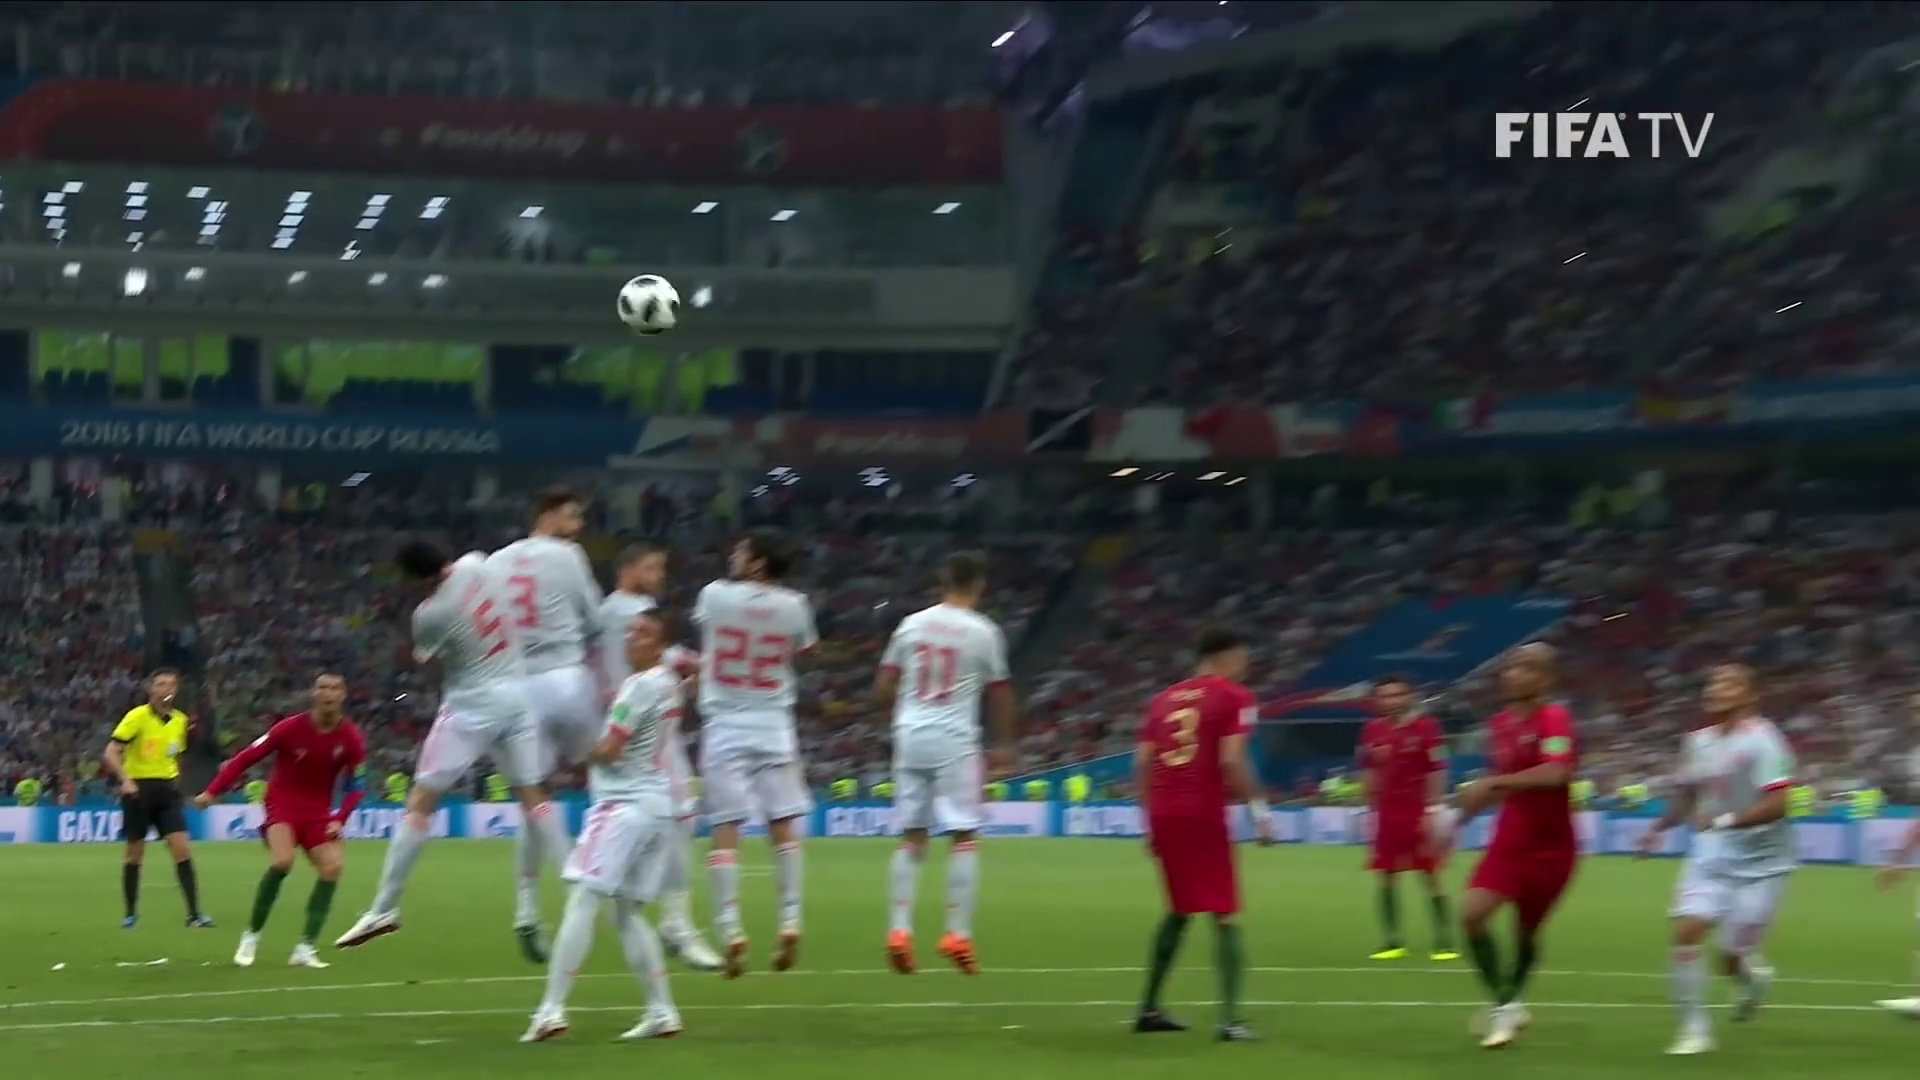ball: (616, 276, 681, 337)
person: (391, 531, 544, 972), (1661, 663, 1793, 1055), (701, 531, 814, 972), (1136, 631, 1252, 1041), (877, 551, 985, 974), (1465, 627, 1575, 1045), (197, 669, 346, 972), (567, 618, 675, 1033), (485, 484, 595, 784), (1365, 676, 1463, 957), (595, 533, 685, 694)
